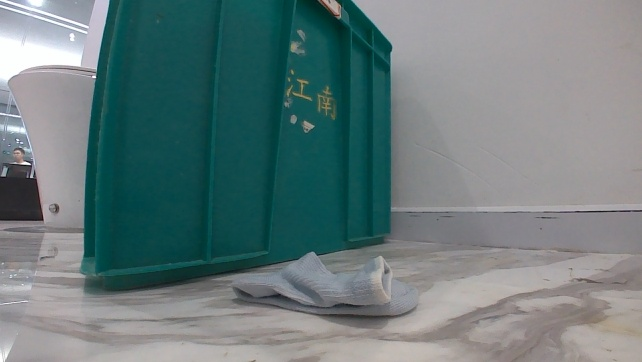socks: (226, 248, 420, 320)
toilet: (4, 63, 97, 228)
